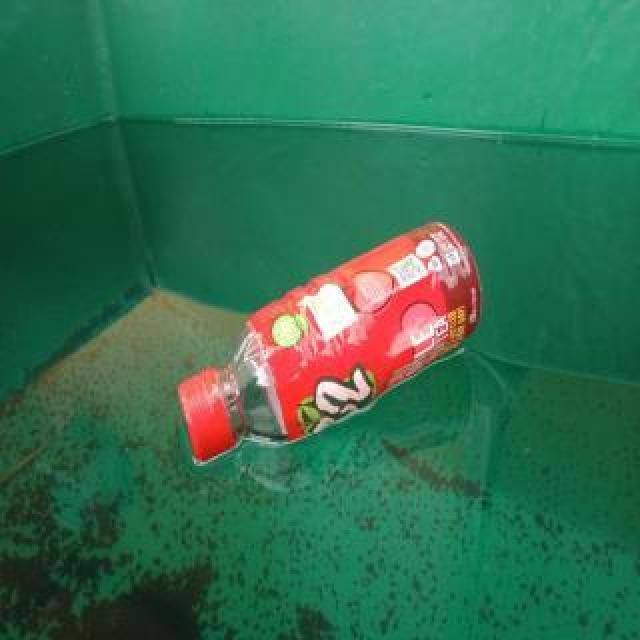bottle: (176, 218, 484, 466)
